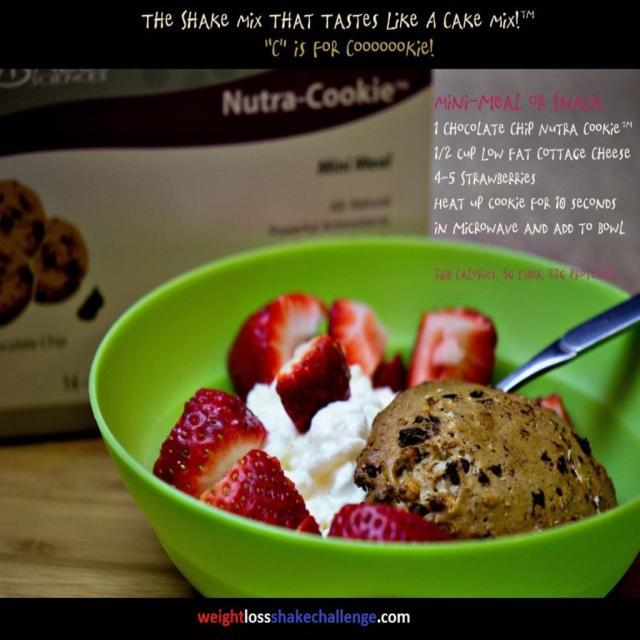Strawberry: (147, 386, 263, 506), (226, 290, 330, 404), (201, 447, 324, 537), (277, 327, 354, 435), (405, 310, 499, 385), (322, 301, 390, 376), (325, 504, 450, 544)
